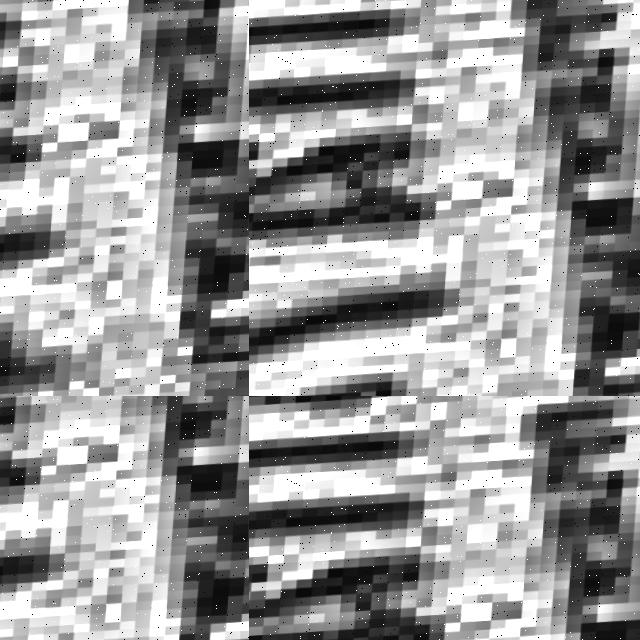license-plate: (249, 0, 640, 396), (249, 396, 640, 640)
